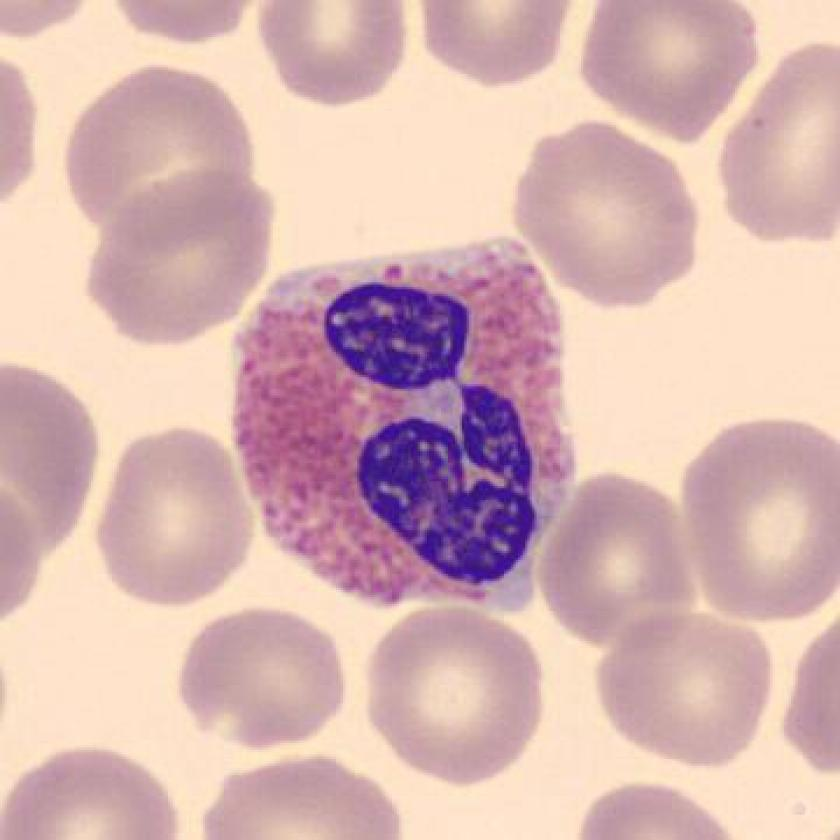eosinophil: (221, 230, 613, 635)
